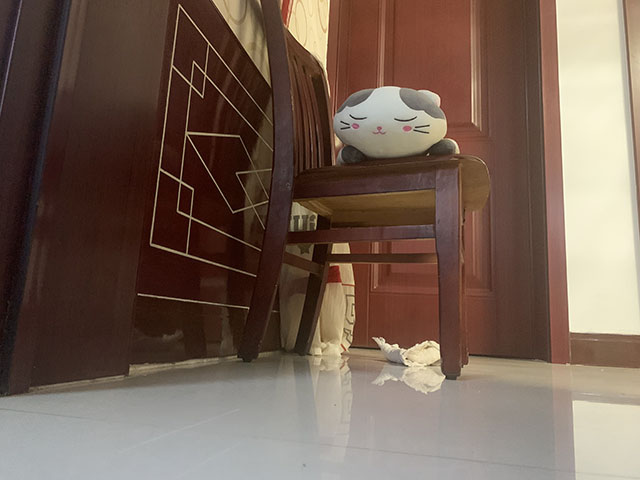stool: (237, 1, 494, 380)
